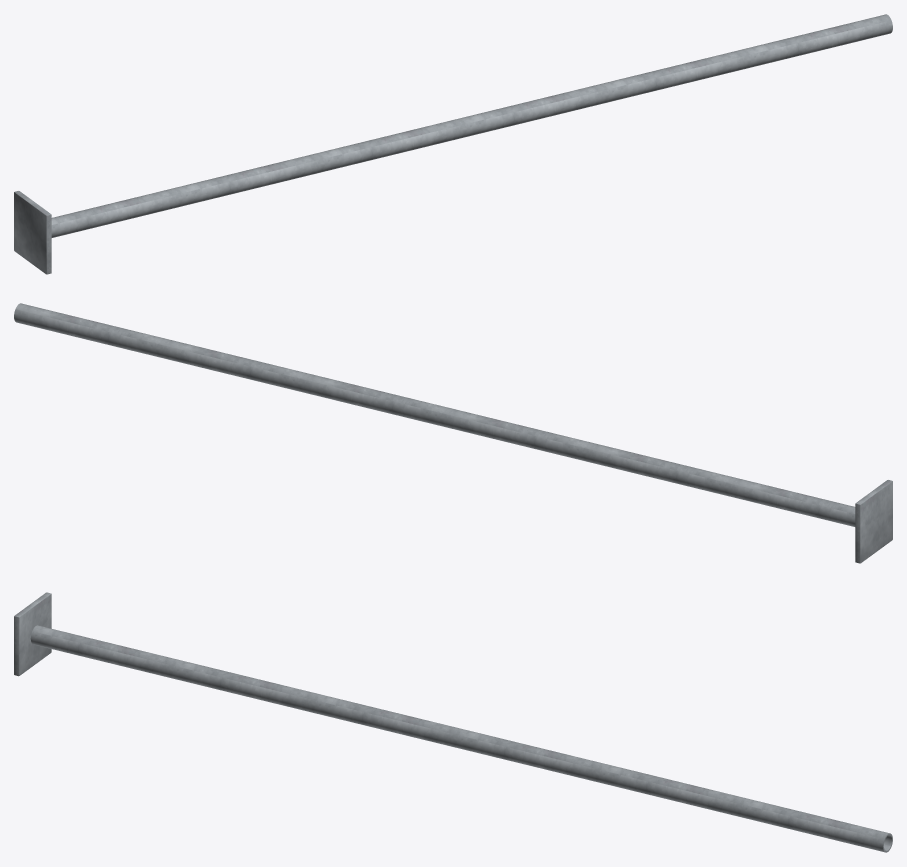
Rendered from ELE-SPD-005.glb.
3 views of the same model, one above another, from view 1: azimuth 30°, elevation 25°; view 2: azimuth 150°, elevation 25°; view 3: azimuth 330°, elevation 25° (orthographic).
Visible parts, largest first — view 1: ELE-SPD-005_mastro, ELE-SPD-005_flange; view 2: ELE-SPD-005_mastro, ELE-SPD-005_flange; view 3: ELE-SPD-005_mastro, ELE-SPD-005_flange.
Part boxes in pixels (x1,y1,x2,y2): ELE-SPD-005_mastro: (51, 14, 892, 237); ELE-SPD-005_flange: (14, 191, 51, 274); ELE-SPD-005_mastro: (14, 303, 855, 526); ELE-SPD-005_flange: (855, 480, 892, 563); ELE-SPD-005_mastro: (30, 625, 892, 852); ELE-SPD-005_flange: (14, 592, 51, 676).
Size of the model in its own units: 3.02 by 0.2 by 0.2.
1 material, 1 textured.
